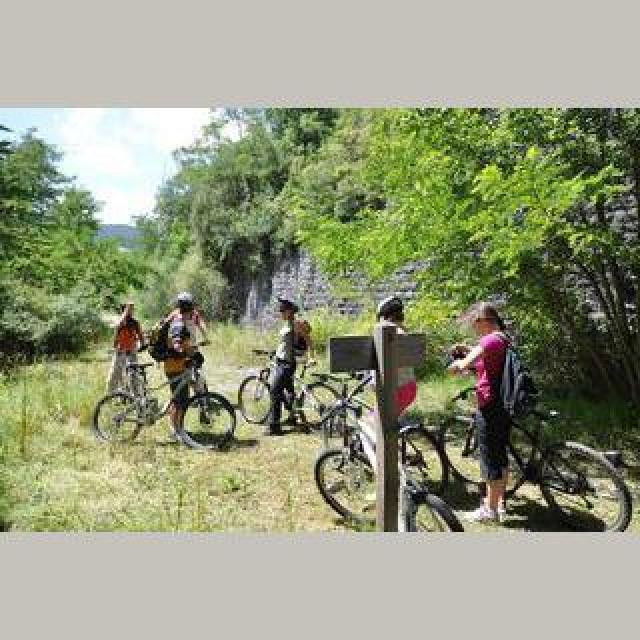MC-Bike: (448, 306, 526, 522), (152, 304, 206, 448), (268, 298, 312, 428), (108, 302, 150, 416), (152, 296, 208, 358)
Person: (436, 399, 630, 529), (314, 360, 452, 528), (91, 355, 235, 449), (237, 348, 335, 432)
